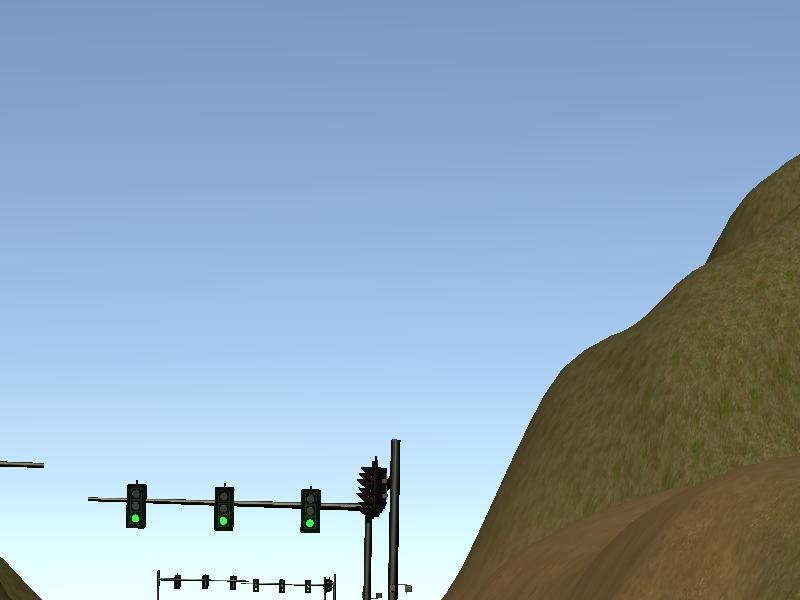traffic_light_green: (104, 482, 352, 535)
